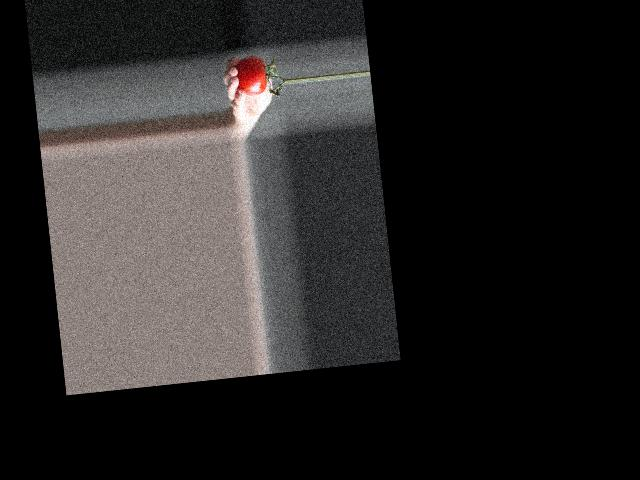tomato: (234, 54, 269, 97)
